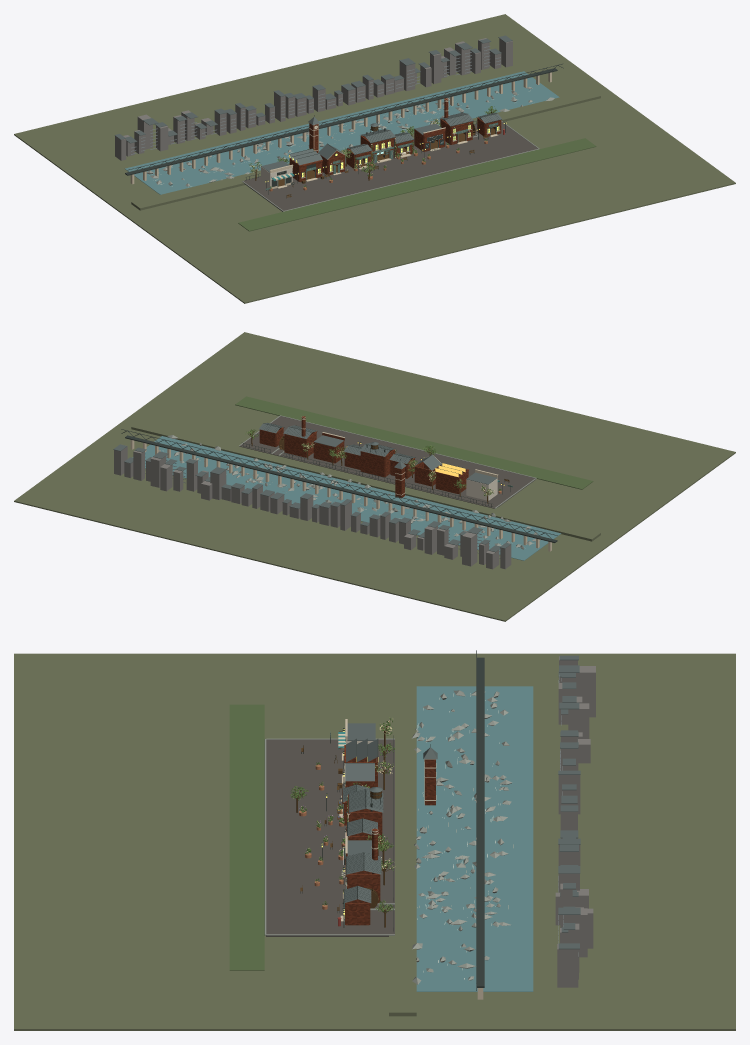
The model's file is district.glb.
The picture shows the model from 3 angles, top to bottom: view 1: azimuth 30°, elevation 25°; view 2: azimuth 150°, elevation 25°; view 3: azimuth 270°, elevation 25°; orthographic projection. The views are drawn at different scales.
Parts seen in each view (by area): view 1: Static / River bank earth, Static / James river, Static / Distant warm masonry, Static / Plaza joint mortar, Static / Lawn verge, Static / Standing seam roof, Static / Blackened iron, Static / Warm red brick, Static / Warm limestone, Static / James River granite, Static / Distant window strips, Static / Painted workshop green (+1 smaller); view 2: Static / River bank earth, Static / Distant warm masonry, Static / James river, Static / Plaza joint mortar, Static / Warm red brick, Static / Lawn verge, Static / Blackened iron, Static / Standing seam roof, Static / James River granite, Static / Warm limestone, Static / Studio limewash; view 3: Static / River bank earth, Static / James river, Static / Plaza joint mortar, Static / Lawn verge, Static / Standing seam roof, Static / Distant warm masonry, Static / James River granite, Static / Blackened iron, Static / Warm red brick, Static / Aged oak, Static / Warm limestone.
Boxes of the visible parts, x1,y1,x2,y2 form: Static / River bank earth: [14, 14, 735, 303]; Static / James river: [125, 71, 559, 194]; Static / Distant warm masonry: [115, 38, 512, 160]; Static / Plaza joint mortar: [243, 122, 537, 211]; Static / Lawn verge: [238, 138, 596, 231]; Static / Standing seam roof: [114, 35, 512, 172]; Static / Blackened iron: [125, 63, 563, 198]; Static / Warm red brick: [289, 98, 501, 182]; Static / Warm limestone: [130, 72, 551, 188]; Static / James River granite: [146, 86, 554, 211]; Static / Distant window strips: [131, 46, 500, 154]; Static / Painted workshop green: [265, 122, 499, 189]; Static / River bank earth: [14, 332, 735, 621]; Static / Distant warm masonry: [114, 446, 511, 569]; Static / James river: [132, 436, 561, 560]; Static / Plaza joint mortar: [239, 416, 535, 508]; Static / Warm red brick: [259, 416, 468, 498]; Static / Lawn verge: [235, 396, 593, 489]; Static / Blackened iron: [121, 423, 557, 542]; Static / Standing seam roof: [113, 423, 510, 552]; Static / James River granite: [158, 415, 540, 549]; Static / Warm limestone: [130, 416, 551, 551]; Static / Studio limewash: [466, 478, 497, 500]; Static / River bank earth: [14, 653, 735, 1030]; Static / James river: [416, 686, 533, 991]; Static / Plaza joint mortar: [266, 739, 394, 936]; Static / Lawn verge: [229, 704, 264, 970]; Static / Standing seam roof: [343, 655, 580, 956]; Static / Distant warm masonry: [555, 656, 595, 987]; Static / James River granite: [264, 690, 512, 984]; Static / Blackened iron: [300, 650, 484, 990]; Static / Warm red brick: [342, 745, 435, 925]; Static / Aged oak: [293, 721, 391, 927]; Static / Warm limestone: [339, 719, 513, 999].
Bounding box in the file's own units: 160 × 13.42 × 130.
8 materials, 8 textured.
